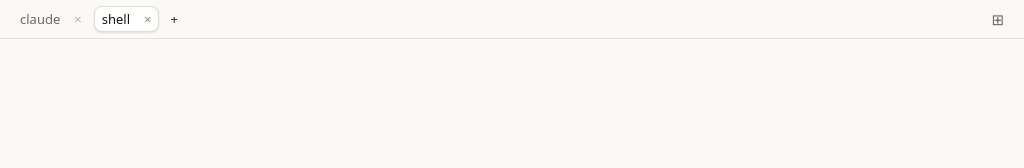
it: TabBar tab menu › closes on a click outside, without running anything
Right-click the tab "shell": (116, 19) [95,7,137,31]
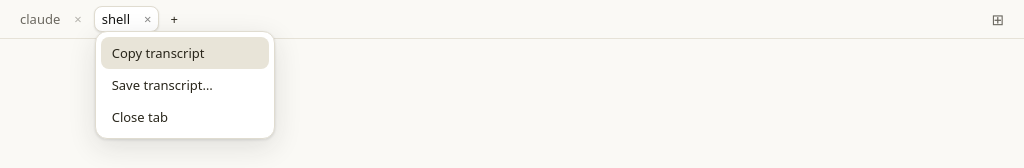
Click the button named "New shell tab": (174, 19) [163,7,185,31]
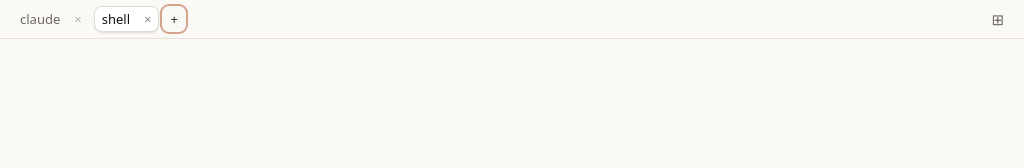
Result: the menu is gone
